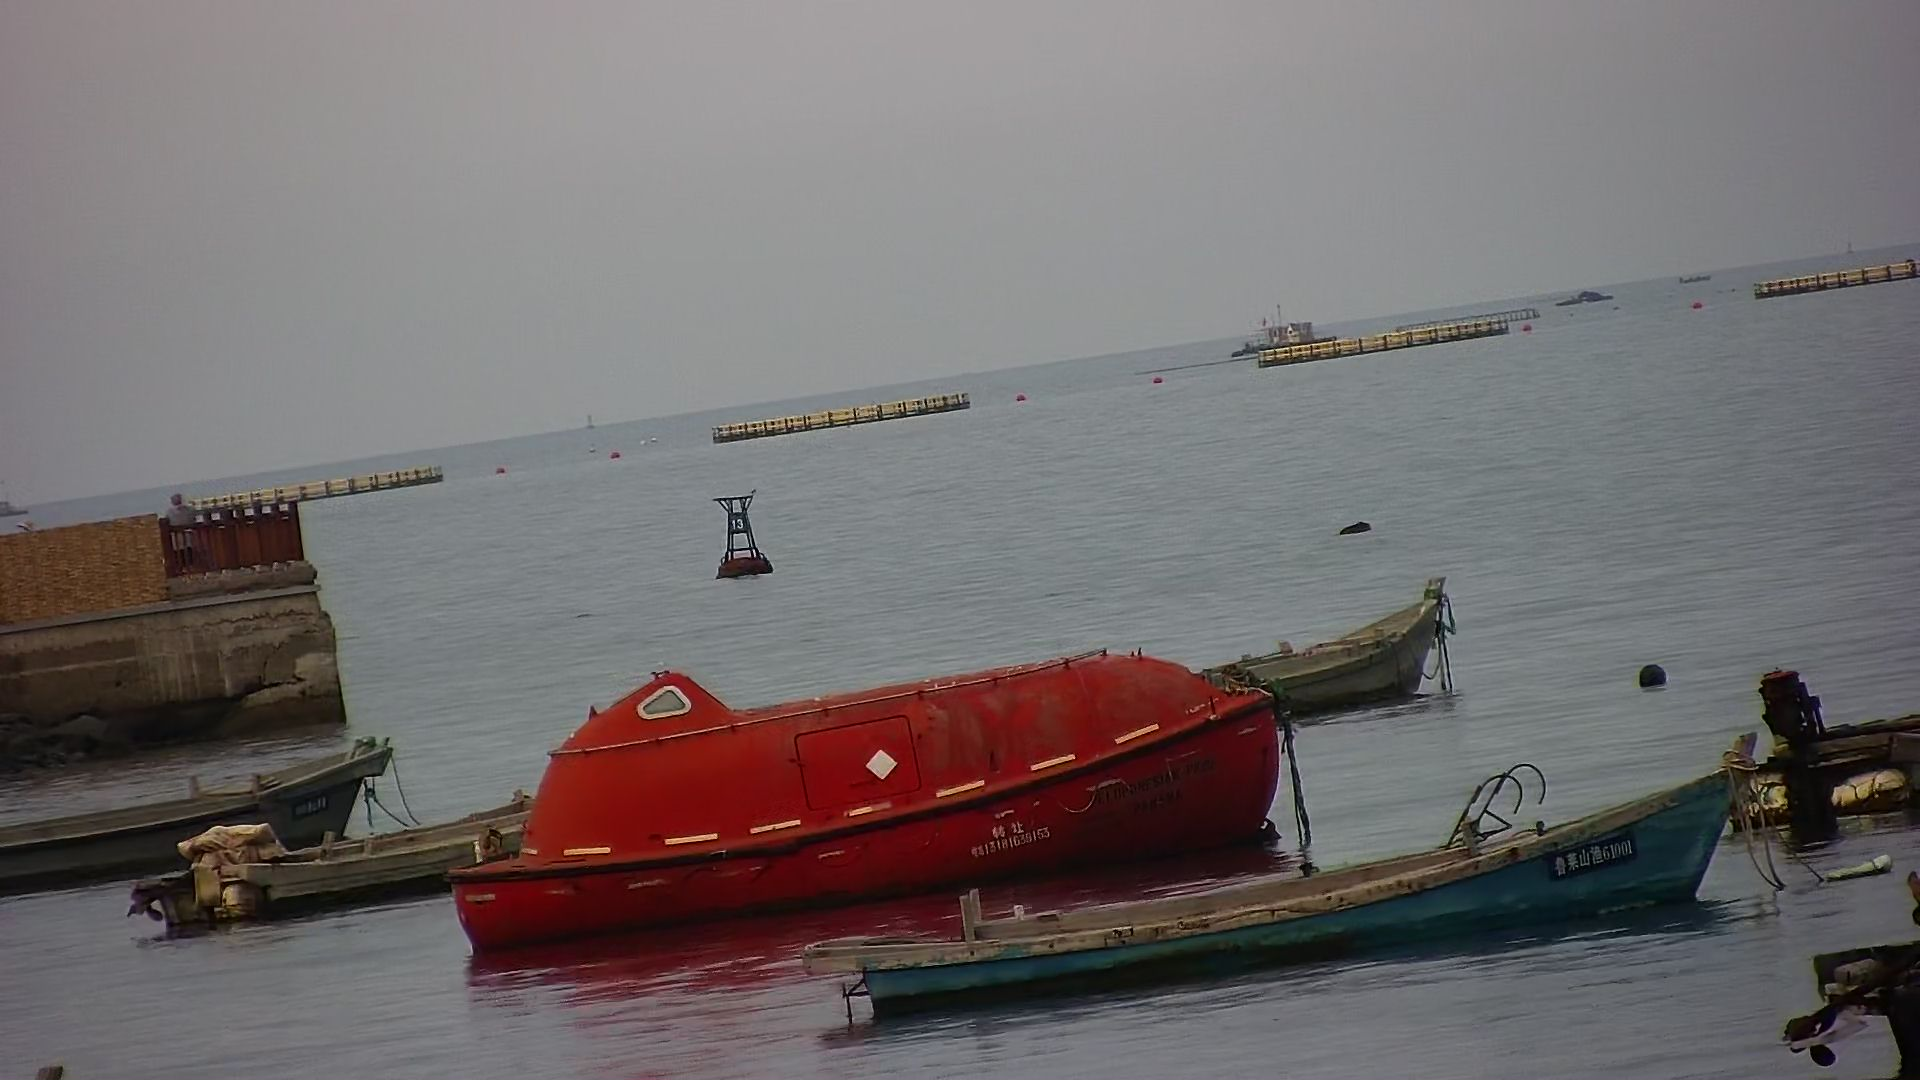ball: (1629, 646, 1683, 702)
boat: (818, 752, 1756, 1019), (458, 667, 1273, 944)
buoy: (707, 477, 785, 593)
platform: (704, 393, 980, 448), (1251, 315, 1515, 367)
rubbish: (1332, 513, 1390, 542)
